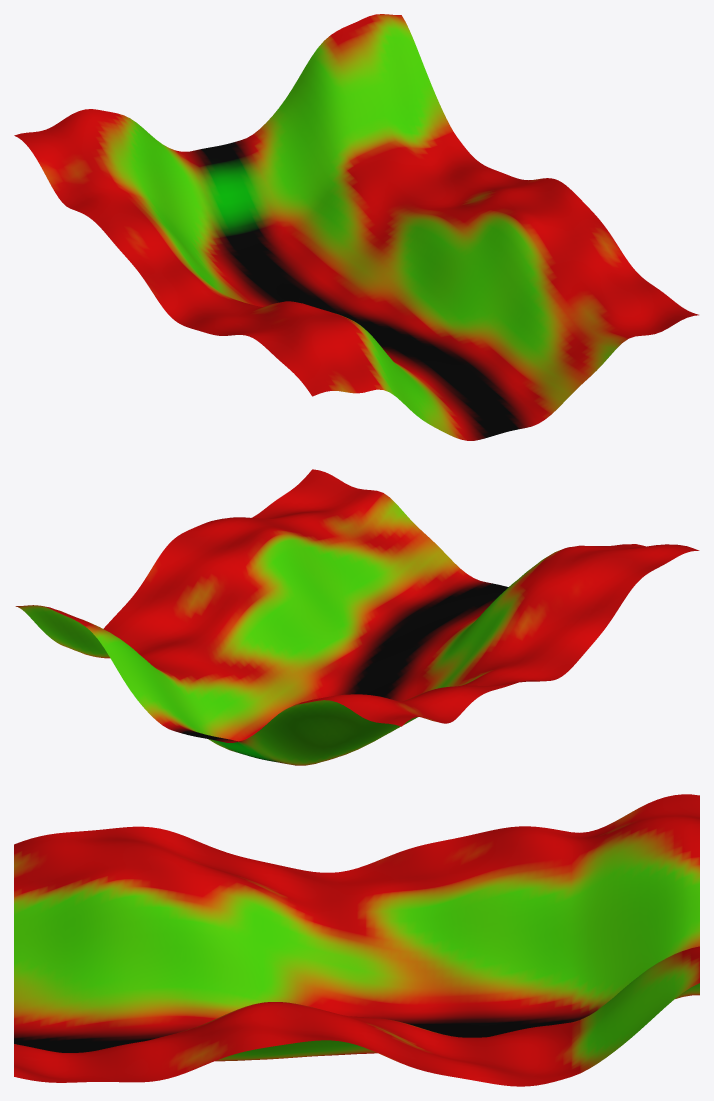
The model's file is valley_terrain.glb.
The picture shows the model from 3 angles, top to bottom: view 1: azimuth 30°, elevation 25°; view 2: azimuth 150°, elevation 25°; view 3: azimuth 270°, elevation 25°; orthographic projection. The views are drawn at different scales.
Parts seen in each view (by area): view 1: TerrainSurface; view 2: TerrainSurface; view 3: TerrainSurface.
Boxes of the visible parts, x1,y1,x2,y2 form: TerrainSurface: (14,14,698,440); TerrainSurface: (15,469,699,765); TerrainSurface: (14,794,699,1086).
Size of the model in its own units: 24 by 9.44 by 32.
